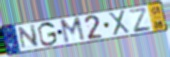2: (83, 15, 104, 42)
G: (37, 21, 59, 48)
M: (59, 15, 87, 45)
N: (17, 24, 41, 51)
X: (107, 10, 132, 37)
Z: (127, 7, 153, 34)
